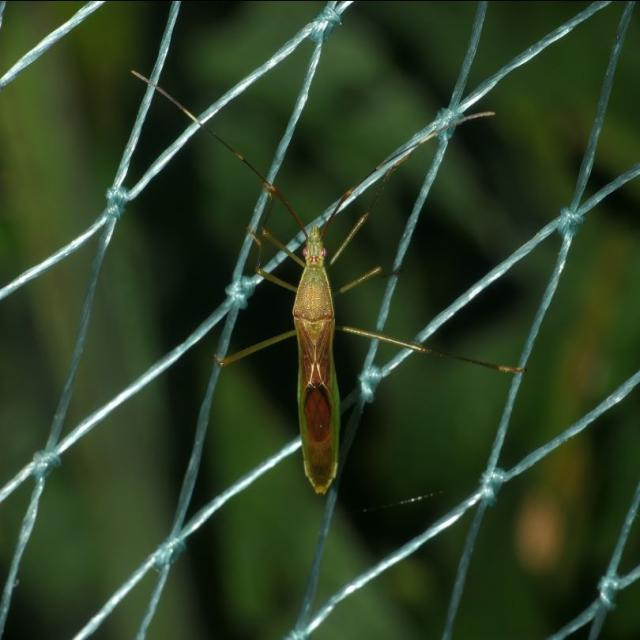walang sangit pada tanaman padi: (127, 66, 526, 497)
